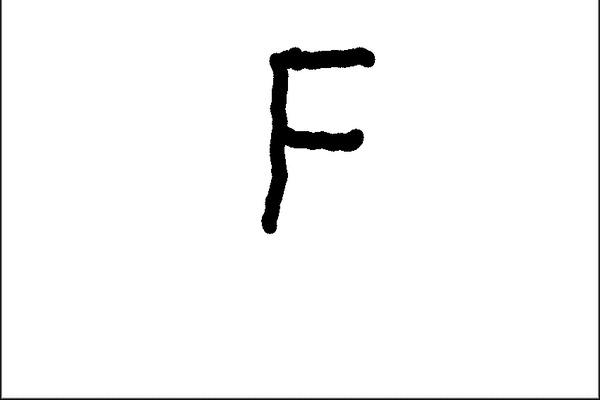F: (258, 43, 376, 235)
